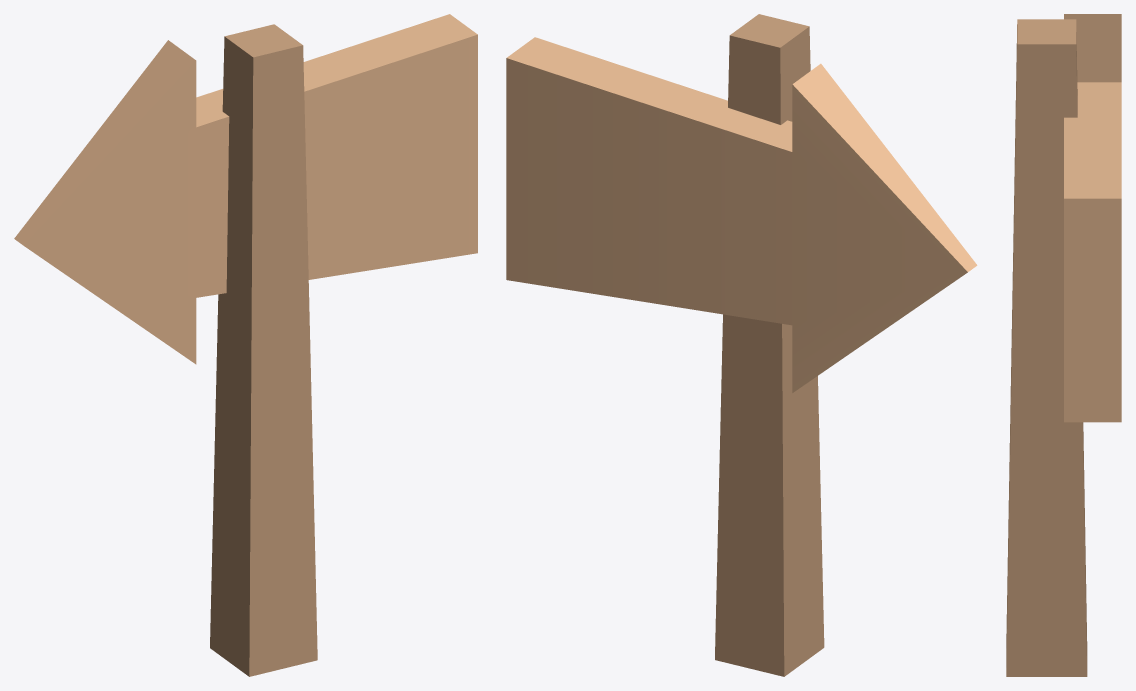
The model's file is arrow.glb.
3 views of the same model, side by side, from view 1: azimuth 30°, elevation 25°; view 2: azimuth 150°, elevation 25°; view 3: azimuth 270°, elevation 25° (orthographic). The views are drawn at different scales.
Visible parts, largest first — view 1: arrow; view 2: arrow; view 3: arrow.
Boxes of the visible parts, left/top/right/bottom form: arrow: left=14, top=14, right=477, bottom=676; arrow: left=506, top=14, right=977, bottom=676; arrow: left=1006, top=14, right=1121, bottom=676.
Size of the model in its own units: 0.4557 by 0.6 by 0.0998.
